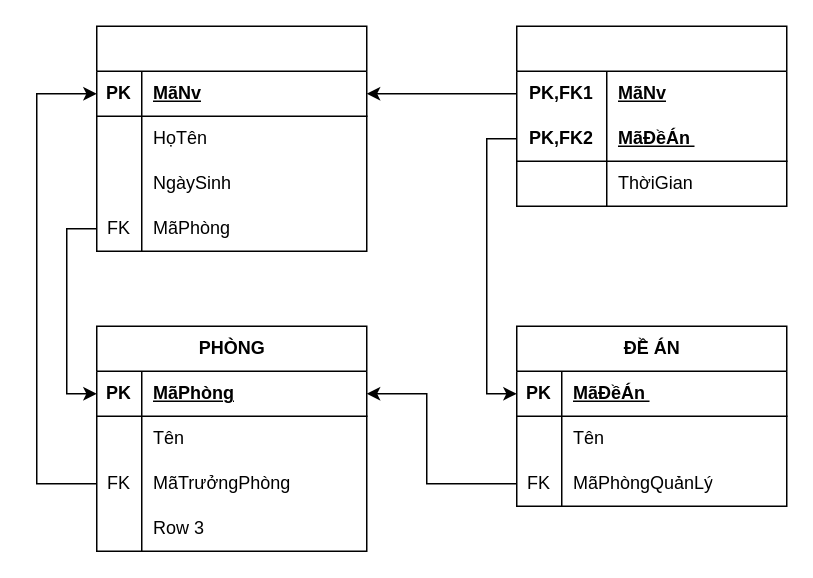
This 813x578 diagram has some shape labels left out. The box of each missing label's shape, as (x1, y1, x2, y2) in pixels:
NHÂN VIÊN: (95, 25, 367, 251)
PHÂN CÔNG: (515, 25, 787, 206)
